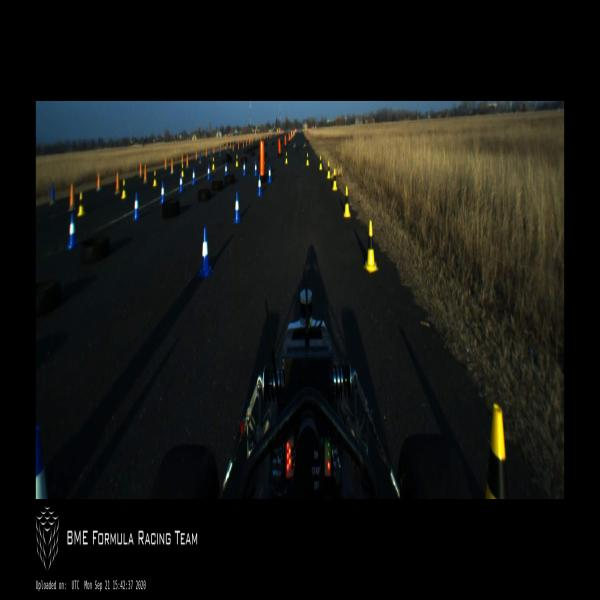blue_cone: (199, 226, 213, 278), (66, 213, 78, 251), (233, 191, 241, 224), (132, 193, 140, 220), (160, 182, 166, 205), (257, 174, 262, 198), (179, 173, 184, 193), (268, 163, 272, 183), (192, 168, 196, 185), (224, 162, 228, 178), (242, 162, 246, 176), (255, 160, 258, 178), (207, 164, 210, 180)
yellow_cone: (485, 404, 509, 498), (364, 220, 378, 272), (343, 186, 351, 217), (77, 192, 86, 216), (332, 168, 338, 190), (121, 180, 127, 199), (153, 170, 158, 186), (326, 160, 330, 179), (319, 155, 323, 170), (284, 151, 288, 164), (306, 152, 309, 165), (212, 157, 215, 170), (182, 163, 184, 177), (236, 154, 238, 168)
